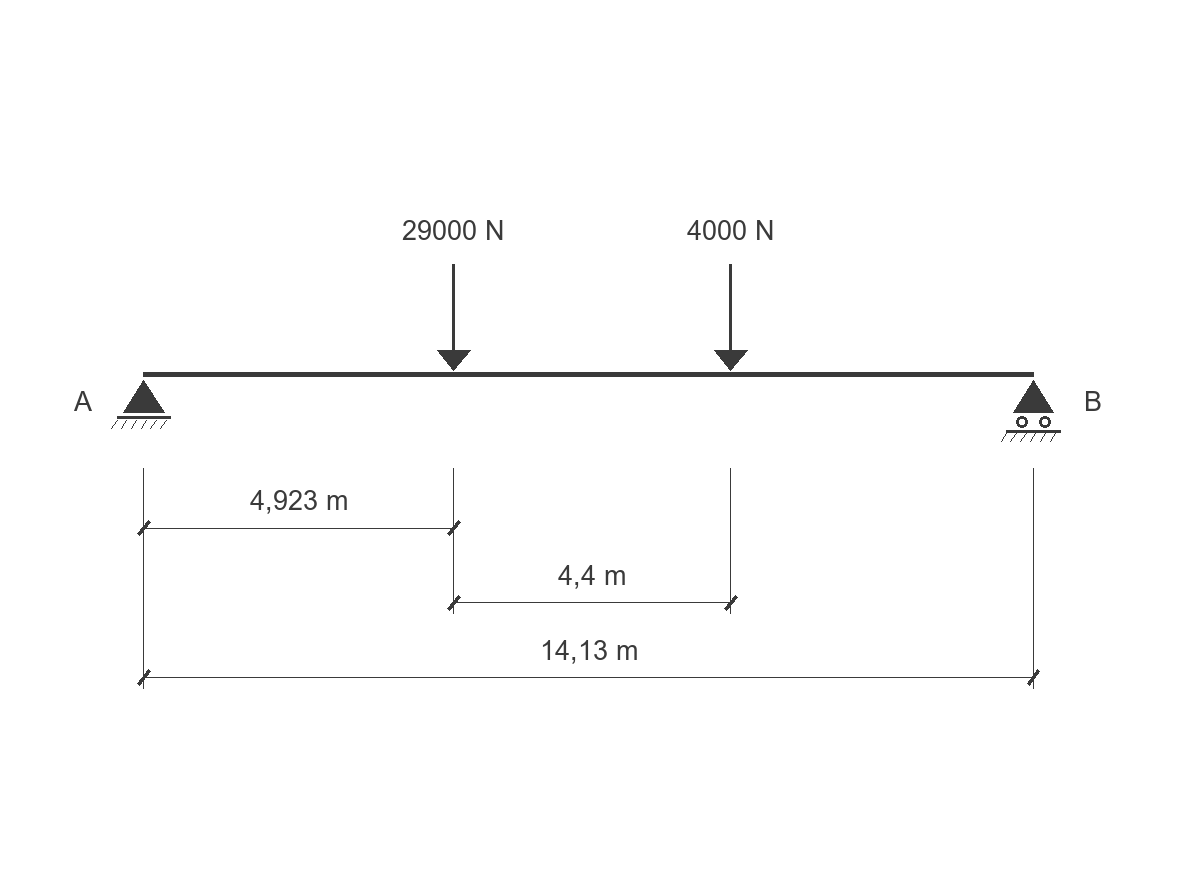pin_support: (111, 380, 171, 429)
point_load: (437, 264, 471, 371), (714, 264, 748, 371)
roller_support: (1001, 380, 1061, 442)
